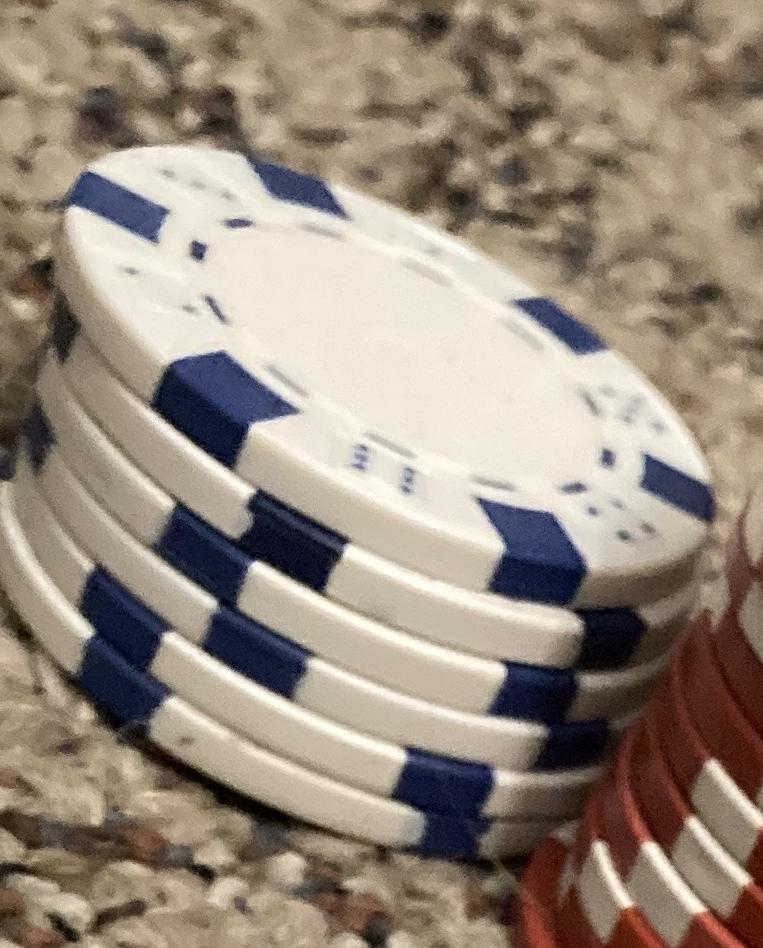Chip: (1, 1, 763, 948)
